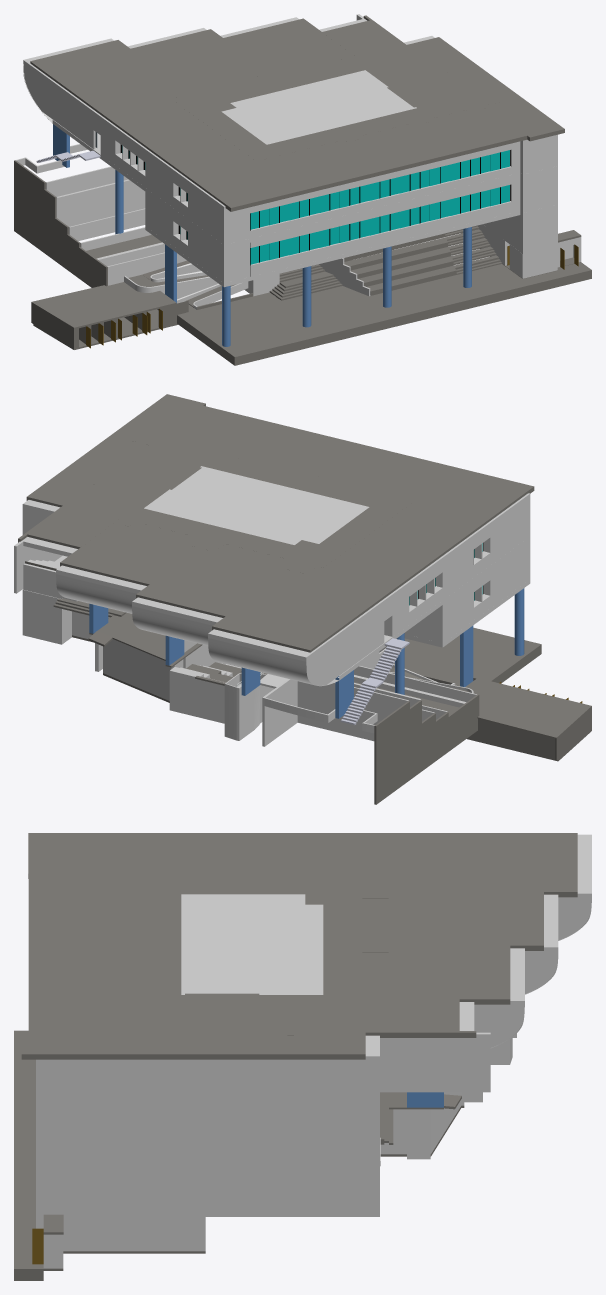
Rendered from XOD01.glb.
3 views of the same model, one above another, from view 1: azimuth 30°, elevation 25°; view 2: azimuth 150°, elevation 25°; view 3: azimuth 270°, elevation 25° (orthographic). The views are drawn at different scales.
Visible parts, largest first — view 1: Object_3.006, Object_4779.005, Object_1.008, Object_4.006, Object_13128, Object_5305.004, Object_5012.004, Object_5586.003, Object_5445.003, Object_5144.004, Object_5713.003, Object_5114.005 (+39 smaller); view 2: Object_3.006, Object_1.008, Object_4.006, Object_5970.003, Object_4779.005, Object_13128, Object_5144.004, Object_5150.004, Object_13122, Object_5016.005, Object_4920.005, Object_6009.003 (+28 smaller); view 3: Object_3.006, Object_1.008, Object_4.006, Object_5744.003, Object_4992.005, Object_5716.003, Object_4995.004, Object_5719.003, Object_5443.003, Object_5442.003, Object_4779.005, Object_5213.004 (+24 smaller).
Part boxes in pixels (x1,y1,x2,y2): Object_3.006: (30, 18, 564, 211); Object_4779.005: (177, 262, 591, 365); Object_1.008: (172, 15, 501, 161); Object_4.006: (221, 70, 416, 144); Object_13128: (31, 282, 176, 328); Object_5305.004: (250, 201, 511, 276); Object_5012.004: (57, 180, 145, 226); Object_5586.003: (250, 166, 511, 238); Object_5445.003: (188, 221, 249, 283); Object_5144.004: (14, 160, 45, 252); Object_5713.003: (188, 182, 249, 244); Object_5114.005: (52, 120, 557, 248); Object_3.006: (26, 394, 534, 652); Object_1.008: (18, 435, 412, 574); Object_4.006: (144, 466, 369, 544); Object_5970.003: (22, 493, 530, 661); Object_4779.005: (394, 627, 541, 686); Object_13128: (465, 678, 591, 738); Object_5144.004: (374, 701, 409, 804); Object_5150.004: (297, 681, 408, 741); Object_13122: (468, 707, 591, 760); Object_5016.005: (103, 639, 170, 700); Object_4920.005: (169, 667, 224, 723); Object_6009.003: (208, 638, 338, 686); Object_3.006: (21, 833, 577, 1059); Object_1.008: (133, 877, 476, 1041); Object_4.006: (181, 894, 323, 994); Object_5744.003: (354, 1037, 490, 1108); Object_4992.005: (205, 1164, 330, 1214); Object_5716.003: (202, 1059, 330, 1108); Object_4995.004: (59, 1164, 181, 1214); Object_5719.003: (59, 1059, 181, 1108); Object_5443.003: (202, 1114, 330, 1160); Object_5442.003: (59, 1111, 181, 1160); Object_4779.005: (14, 1030, 43, 1280); Object_5213.004: (63, 1217, 181, 1251).
Bounding box in the file's own units: 55.92 × 17.81 × 43.93.
